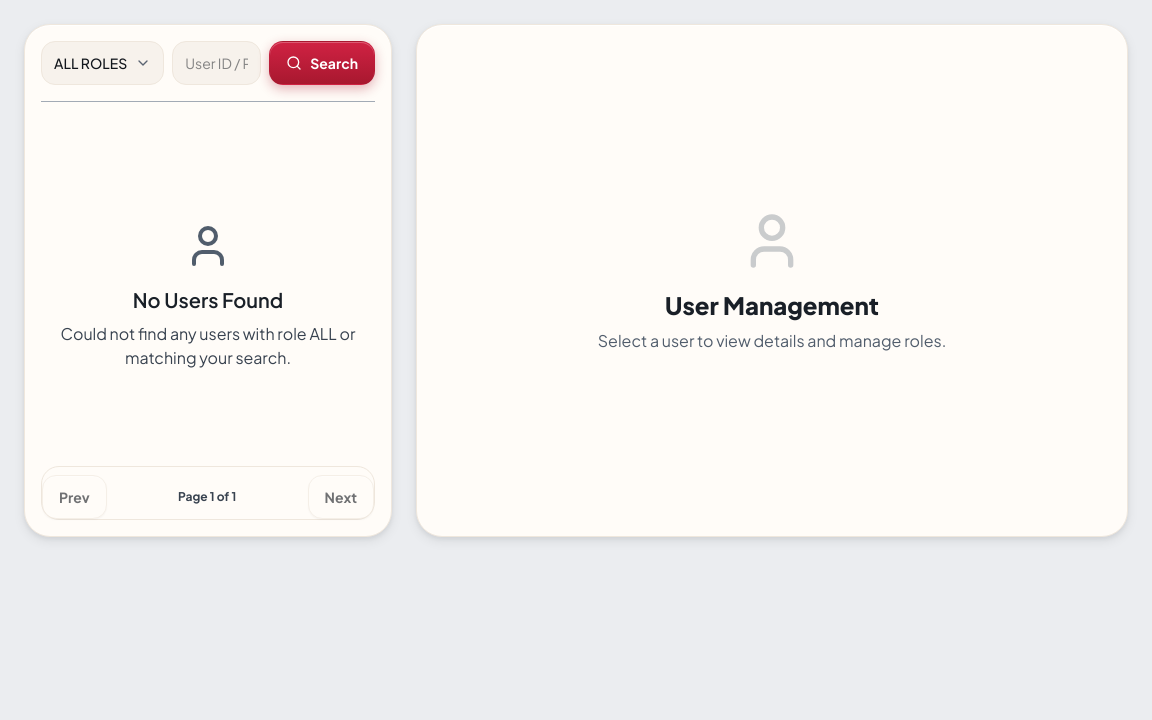
Test: AdminUserManagement search › does not request a status change when suspension confirmation is cancelled
In the field with placeholder "User ID / Phone": (217, 63) x1=172 y1=41 x2=261 y2=85, type "8000000001"
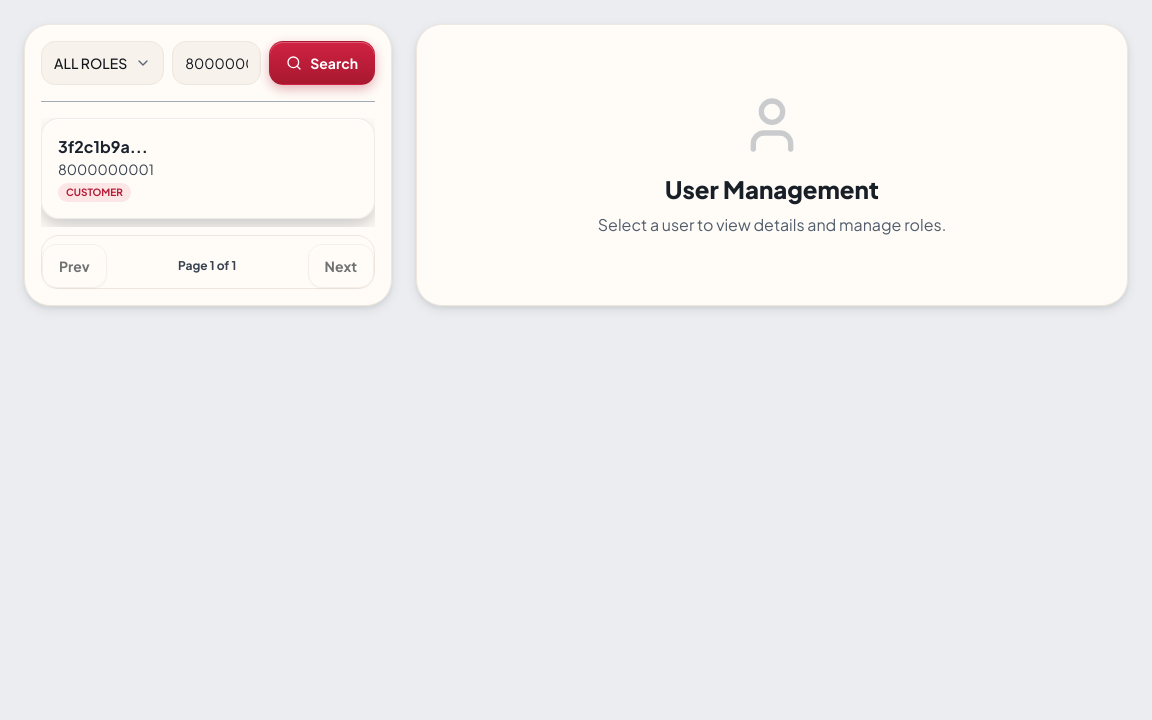
Click the button "3f2c1b9a... 8000000001 CUSTOMER": (94, 146) x1=41 y1=118 x2=375 y2=219
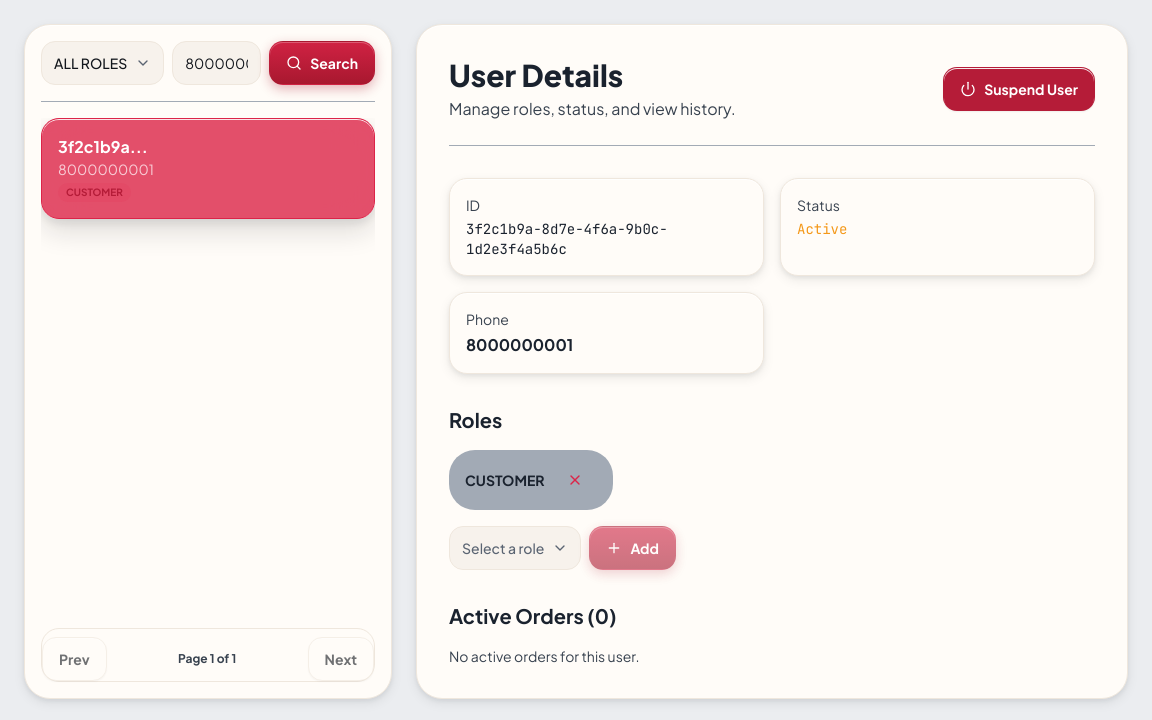
Click the button "Suspend User": (1019, 89) x1=943 y1=67 x2=1095 y2=111
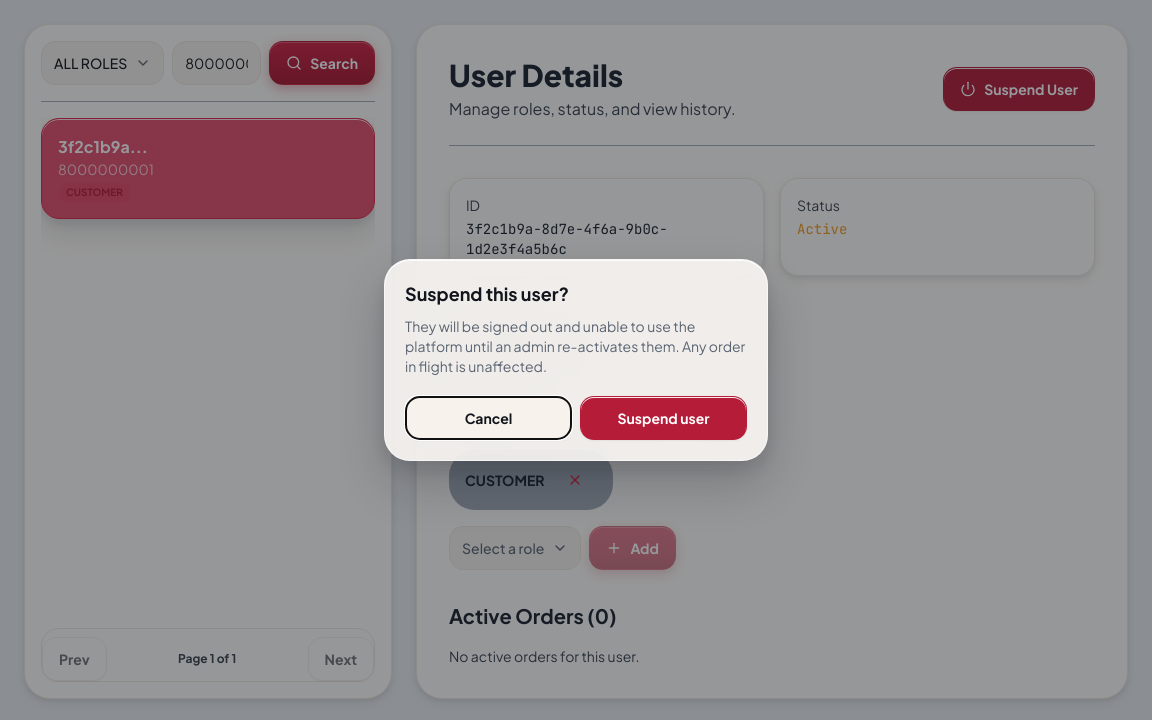
Click the button "Cancel": (488, 418) x1=405 y1=396 x2=572 y2=440
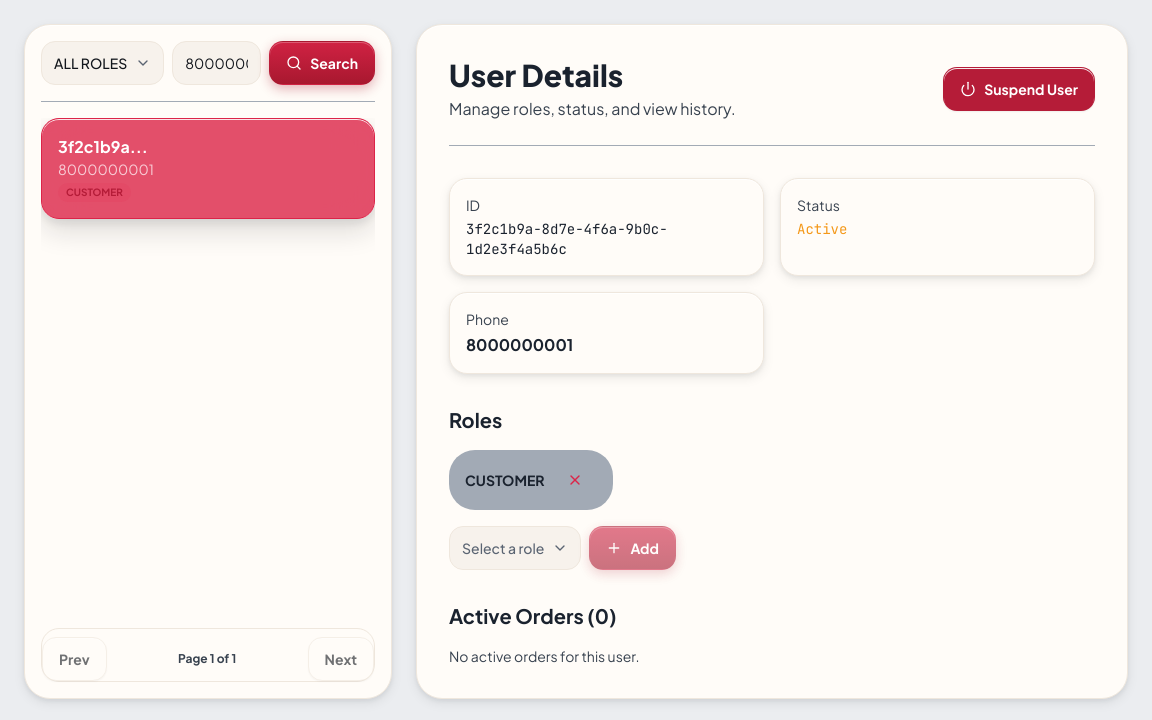
Now the dialog is gone
